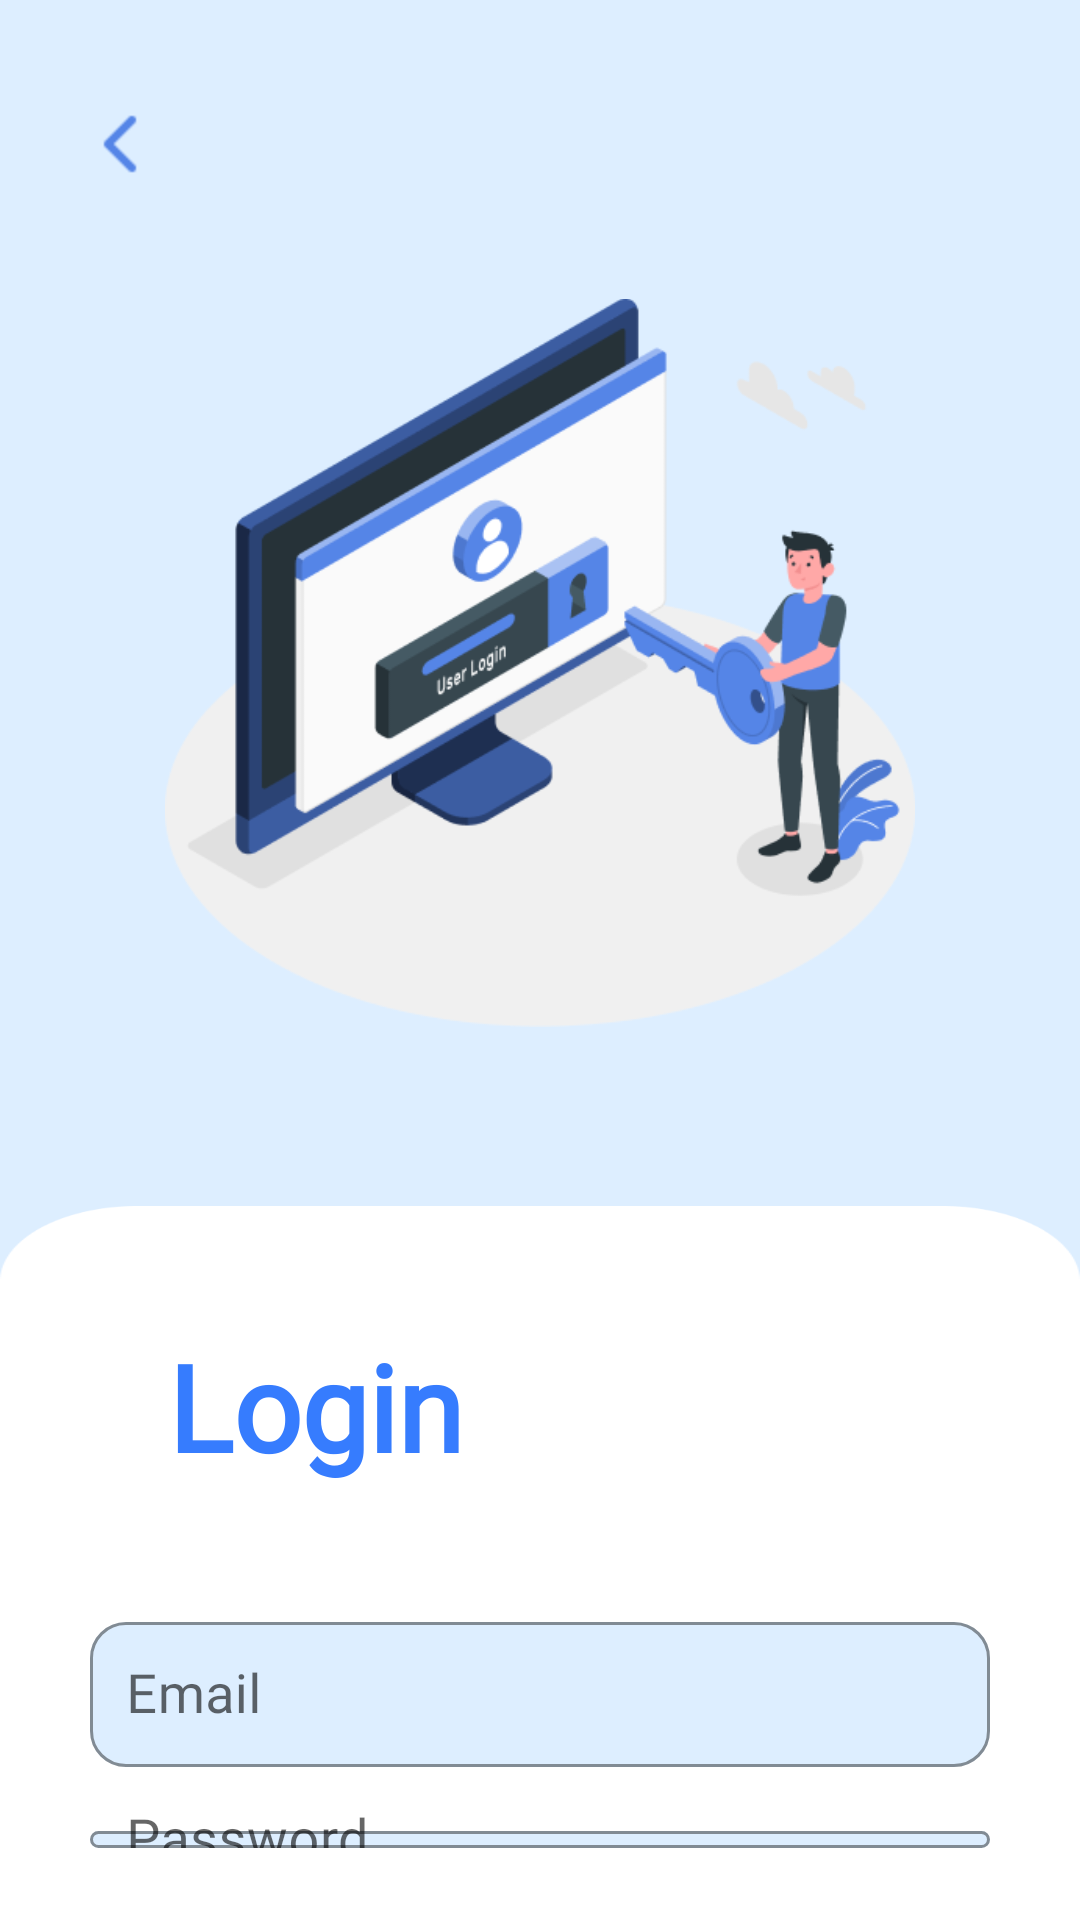

Named icons in this screenshot (1080w x 1920h) and their bounding boxes, bbox=[x1, y1, x2, y2]:
back: bbox=[103, 115, 137, 173]
